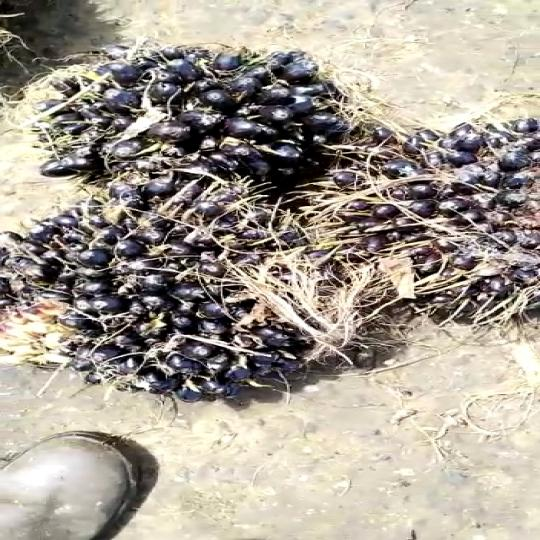mentah: (2, 200, 404, 398), (308, 93, 540, 309), (36, 34, 326, 187)
